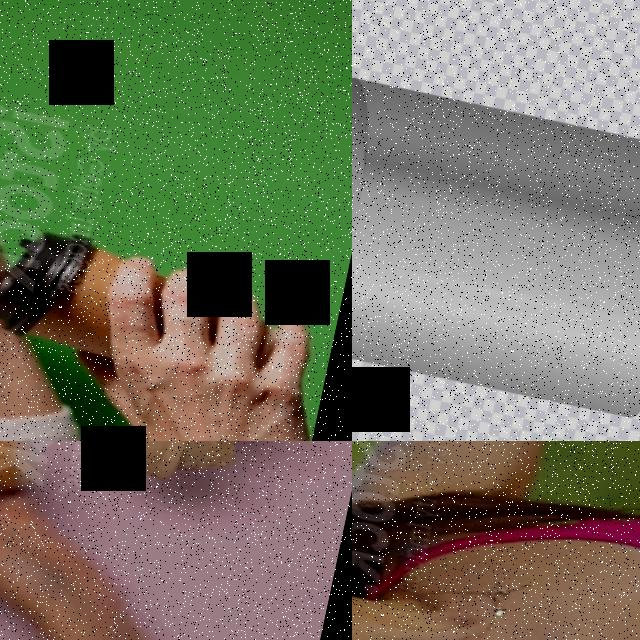can: (352, 57, 640, 428)
cup: (0, 217, 292, 394)
